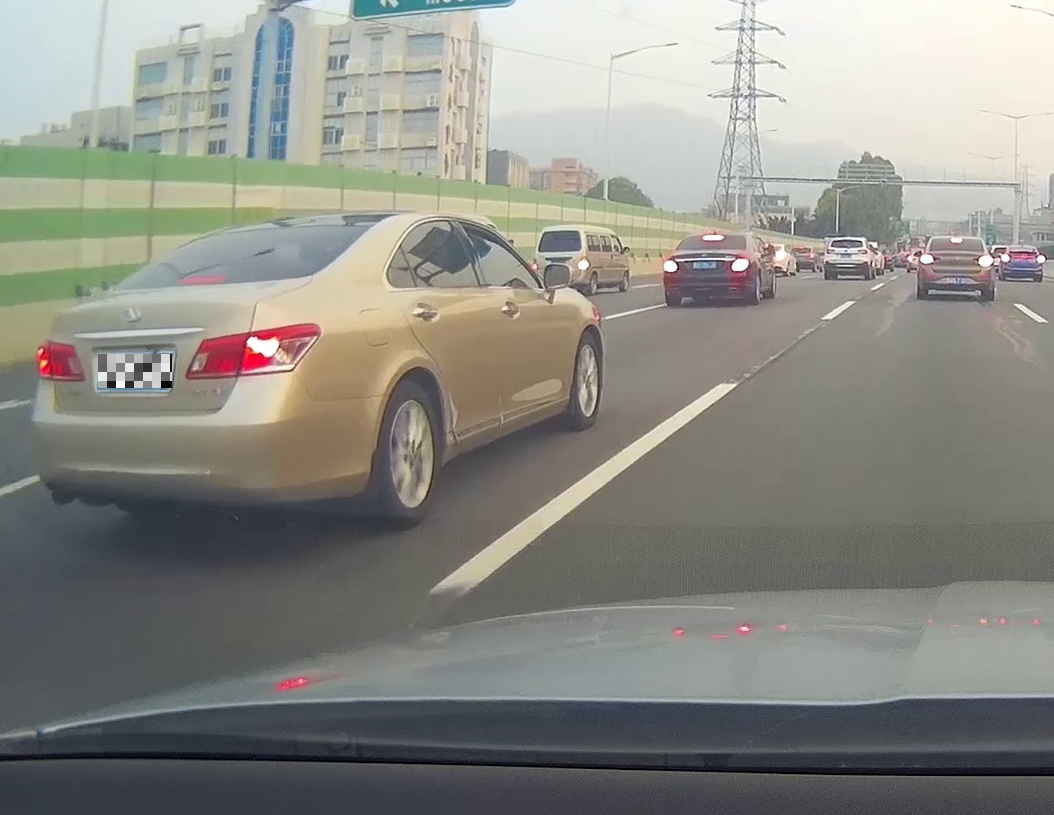L_light: (35, 338, 86, 381), (920, 253, 940, 264), (663, 259, 678, 273)
R_light: (186, 321, 321, 380), (730, 258, 749, 272), (973, 255, 993, 267)
T_light: (178, 274, 225, 284), (703, 234, 723, 240), (951, 238, 962, 241)
day-brake: (29, 217, 374, 532), (662, 231, 754, 307), (917, 235, 995, 300)
plate_1: (98, 354, 172, 388)
